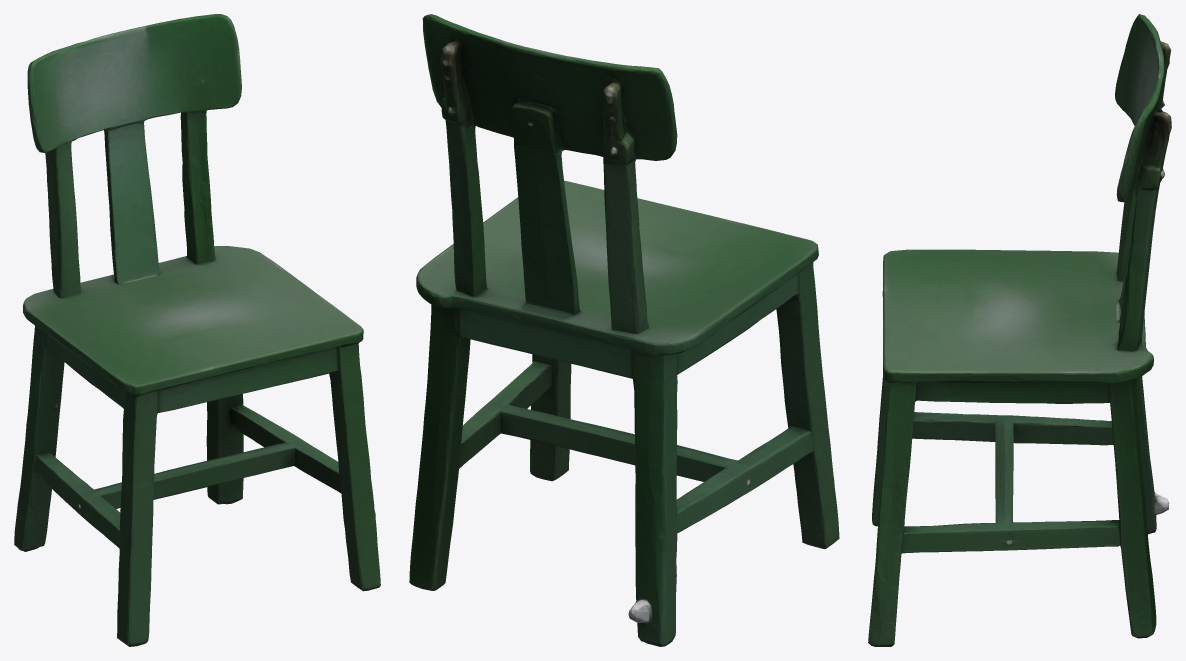
Rendered from ast_676a5967fa8b.glb.
3 renders of one model, left to right at view 1: azimuth 30°, elevation 25°; view 2: azimuth 150°, elevation 25°; view 3: azimuth 270°, elevation 25°, orthographic. The views are drawn at different scales.
Visible parts, largest first — view 1: geometry_0; view 2: geometry_0; view 3: geometry_0.
Part boxes in pixels (left/top/right/bottom): geometry_0: left=14, top=14, right=380, bottom=646; geometry_0: left=409, top=14, right=839, bottom=646; geometry_0: left=868, top=14, right=1171, bottom=646.
Bounding box in the file's own units: 0.5463 × 1 × 0.5305.
Materials: 1 (1 with a texture image).
